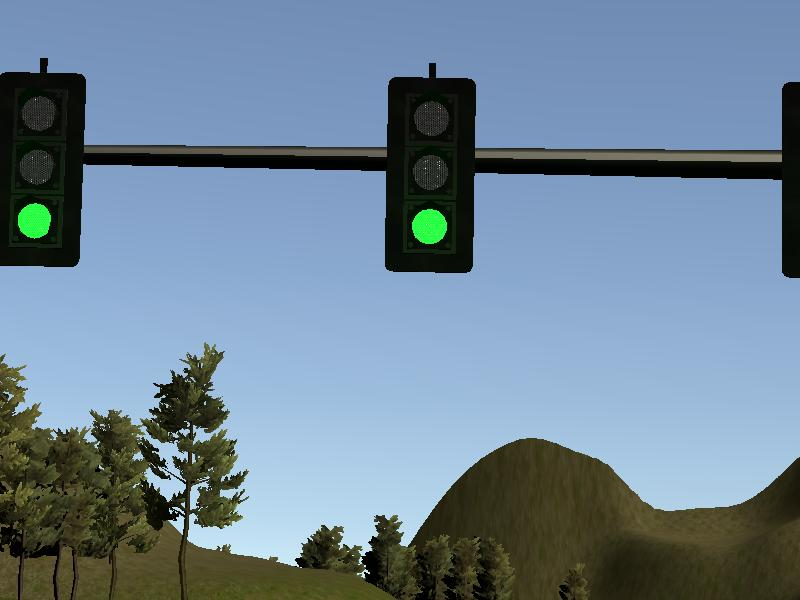green: (387, 77, 473, 272), (1, 75, 85, 264)
